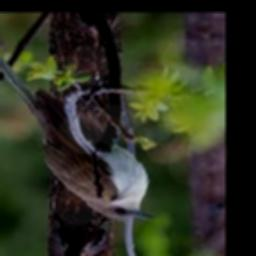Cuckoo: (0, 35, 155, 220)
